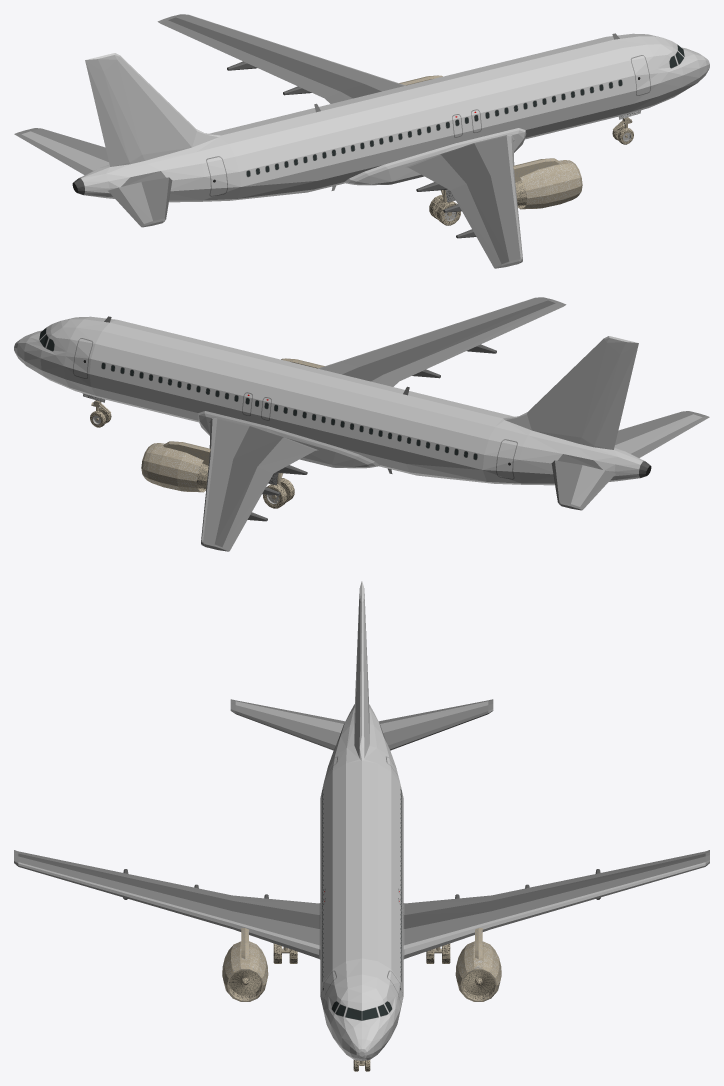
The picture shows the model from 3 angles, top to bottom: view 1: azimuth 30°, elevation 25°; view 2: azimuth 150°, elevation 25°; view 3: azimuth 270°, elevation 25°; orthographic projection. The views are drawn at different scales.
Parts seen in each view (by area): view 1: mesh75_mesh75-geometry, mesh37.001_mesh37-geometry, mesh31.001_mesh31-geometry, mesh36.001_mesh36-geometry; view 2: mesh75_mesh75-geometry, mesh8.001_mesh8-geometry, mesh60.001_mesh60-geometry, mesh7.001_mesh7-geometry; view 3: mesh75_mesh75-geometry, mesh37.001_mesh37-geometry, mesh8.001_mesh8-geometry.
Part boxes in pixels (bbox=[...]): mesh75_mesh75-geometry: bbox=[14, 14, 709, 268]; mesh37.001_mesh37-geometry: bbox=[515, 160, 582, 209]; mesh31.001_mesh31-geometry: bbox=[429, 195, 460, 225]; mesh36.001_mesh36-geometry: bbox=[513, 158, 560, 182]; mesh75_mesh75-geometry: bbox=[14, 297, 709, 551]; mesh8.001_mesh8-geometry: bbox=[141, 443, 208, 492]; mesh60.001_mesh60-geometry: bbox=[263, 478, 294, 508]; mesh7.001_mesh7-geometry: bbox=[163, 441, 210, 465]; mesh75_mesh75-geometry: bbox=[14, 581, 709, 1060]; mesh37.001_mesh37-geometry: bbox=[222, 941, 268, 1001]; mesh8.001_mesh8-geometry: bbox=[455, 941, 501, 1001].
Bounding box in the file's own units: 0.7153 × 0.2299 × 0.6599.
